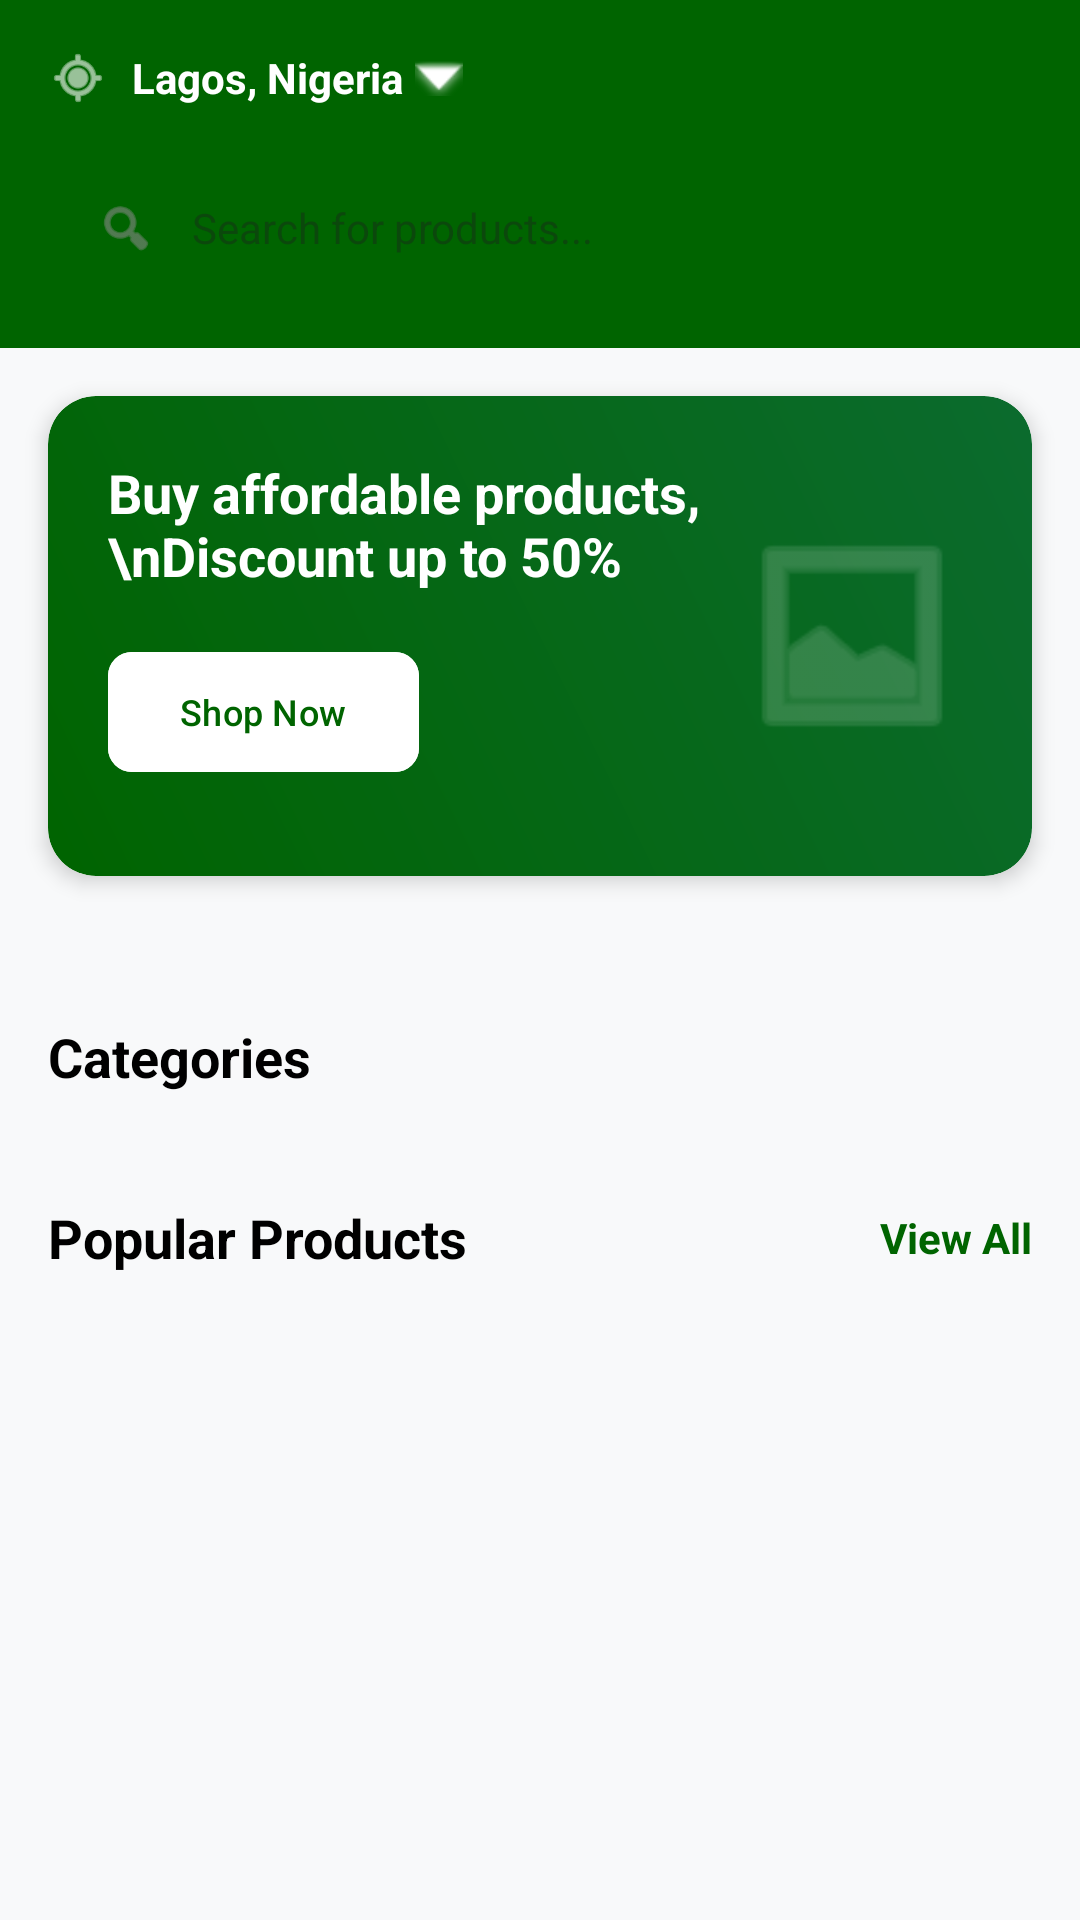

Where to tap for icons on this 1080×1920 app screen, as (x=x, y=y):
arrow down float: (x=439, y=78)
gallery: (x=852, y=636)
mylocation: (x=78, y=78)
